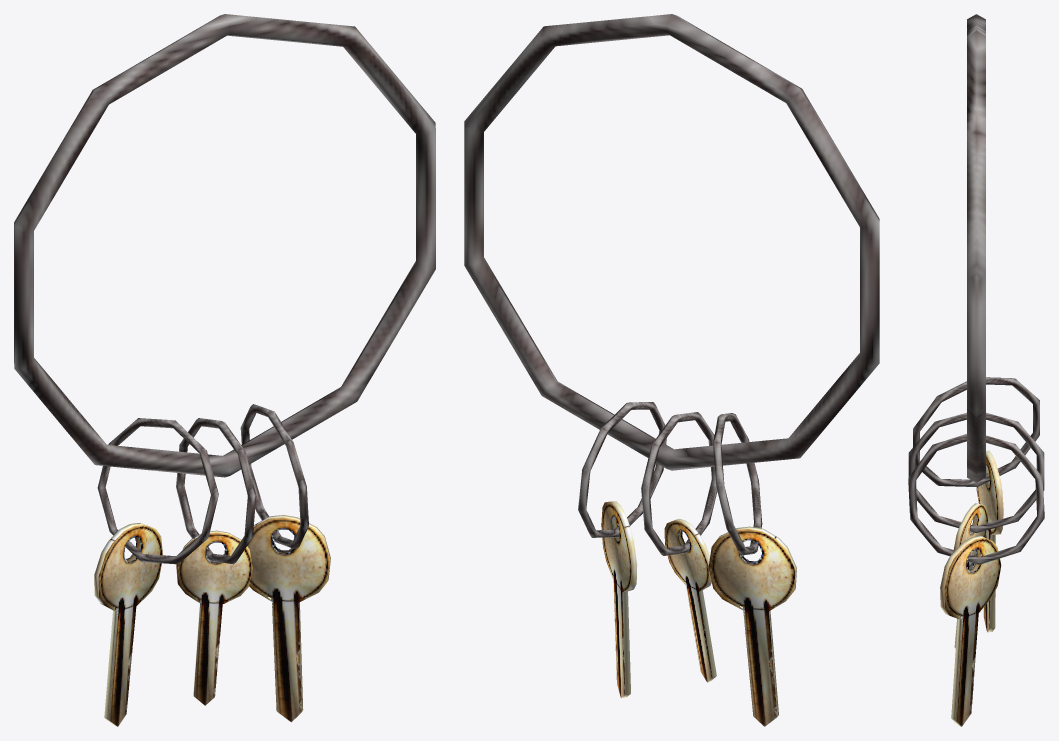
Rendered from janitor_keyring.FBX.
3 views of the same model, side by side, from view 1: azimuth 30°, elevation 25°; view 2: azimuth 150°, elevation 25°; view 3: azimuth 270°, elevation 25° (orthographic). The views are drawn at different scales.
Parts seen in each view (by area): view 1: janitor_key; view 2: janitor_key; view 3: janitor_key.
Part boxes in pixels (x1,y1,x2,y2): janitor_key: [14, 14, 435, 726]; janitor_key: [464, 14, 879, 726]; janitor_key: [908, 14, 1044, 726].
Bounding box in the file's own units: 17.5 × 28.38 × 5.26.
